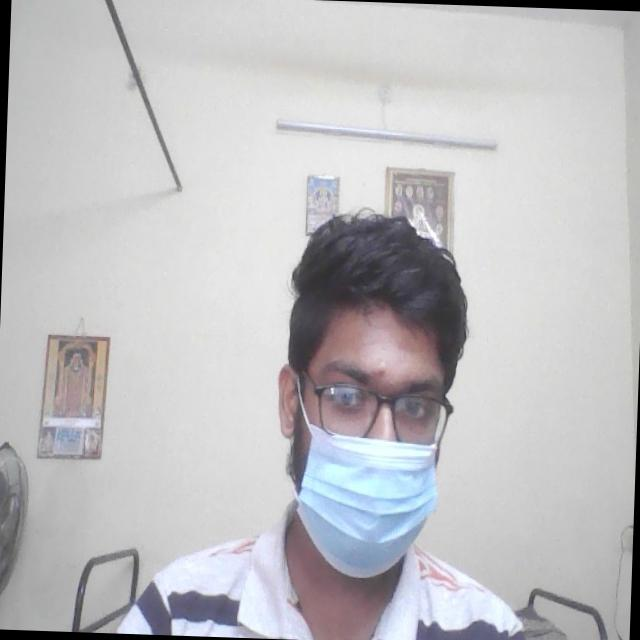Focused: (296, 352, 447, 536)
